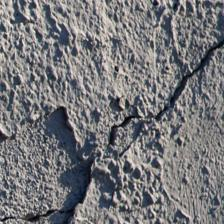Crack: (113, 43, 222, 155), (4, 205, 77, 223)
